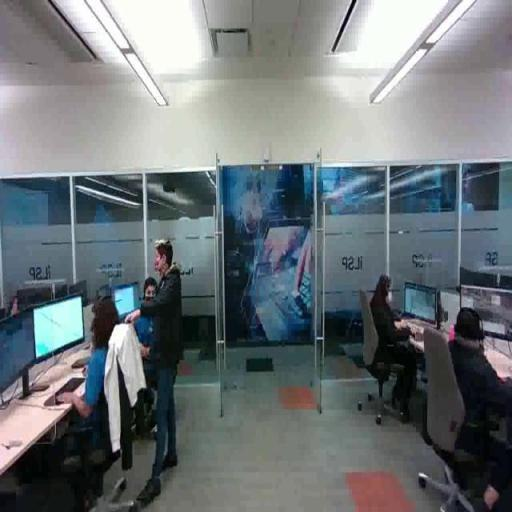person: (126, 239, 185, 510), (53, 298, 136, 478), (444, 303, 512, 512), (366, 271, 421, 414)
